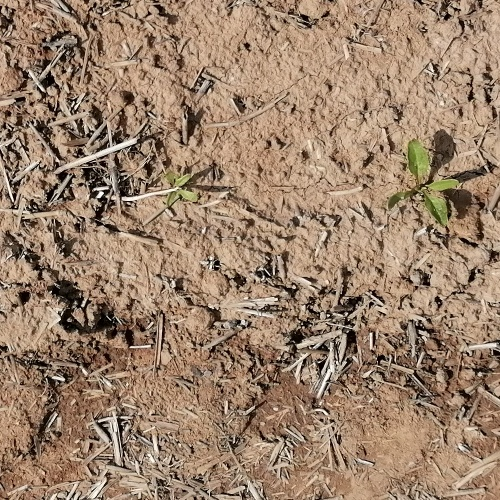beet: (390, 139, 459, 229), (163, 170, 196, 206)
